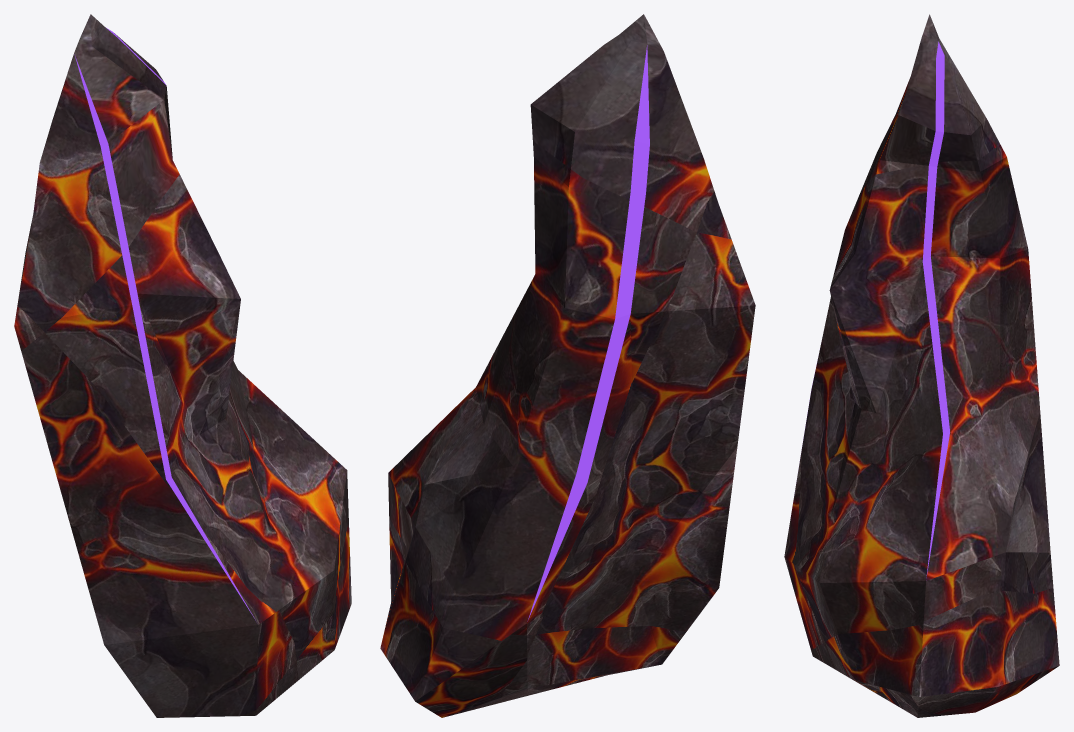
File: Stone_02.glb
The picture shows the model from 3 angles, left to right: view 1: azimuth 30°, elevation 25°; view 2: azimuth 150°, elevation 25°; view 3: azimuth 270°, elevation 25°; orthographic projection. The views are drawn at different scales.
Parts seen in each view (by area): view 1: Stone_01; view 2: Stone_01; view 3: Stone_01.
Boxes of the visible parts, x1,y1,x2,y2 form: Stone_01: (14,14,351,717); Stone_01: (380,14,755,717); Stone_01: (784,14,1059,717).
Size of what is drawn, in the model's own units: 2.92 by 5.57 by 2.26.
Materials: 2 (1 with a texture image).
